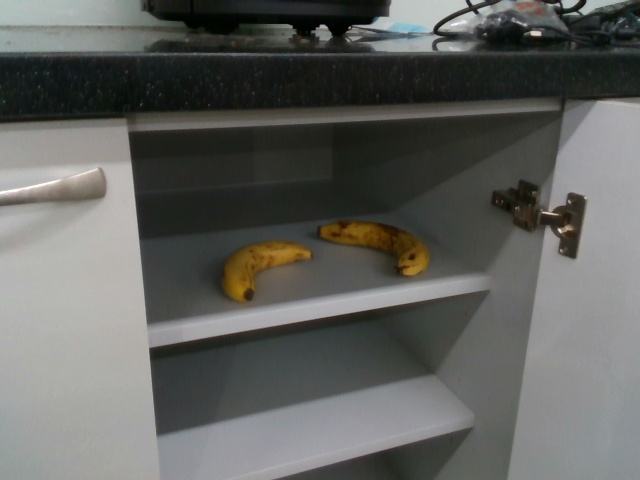banana: (316, 219, 432, 279), (216, 240, 311, 303)
